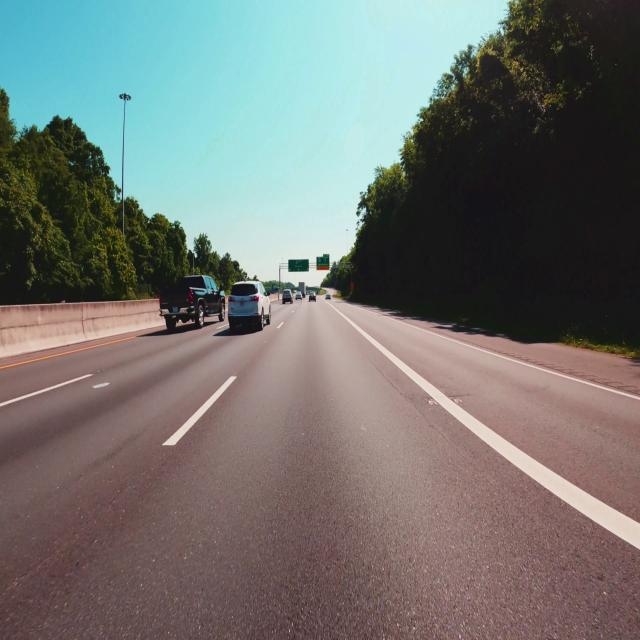car: (160, 275, 225, 331), (228, 281, 270, 333), (282, 289, 293, 303), (309, 291, 316, 301), (296, 291, 302, 300), (326, 293, 330, 299)
